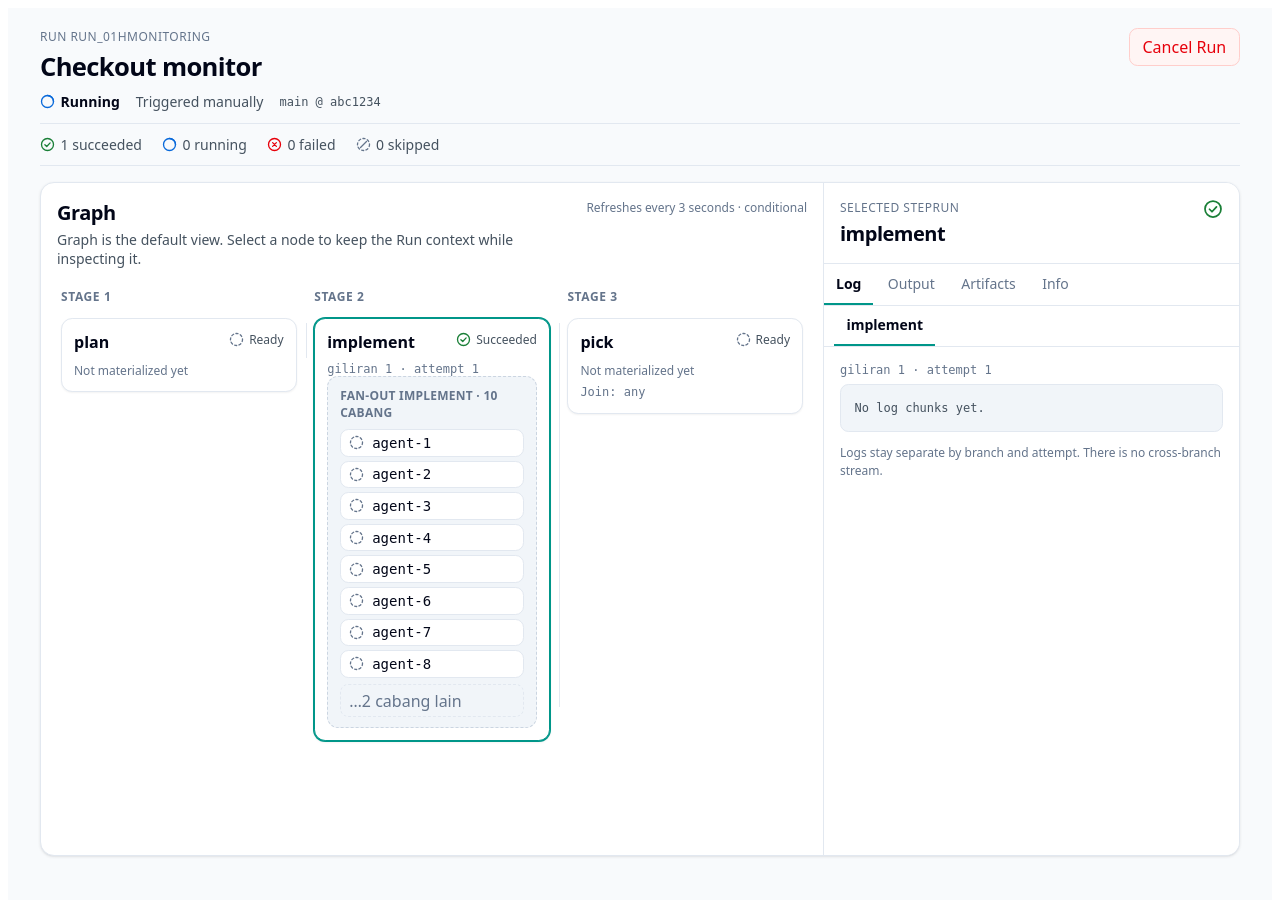
Test case: RunScreen › renders the StepRun's finalPrompt — what was actually sent to the agent — through the Info tab
Click the tab "Info". click: coordinates (1055, 284)
box: [1030,264,1081,305]
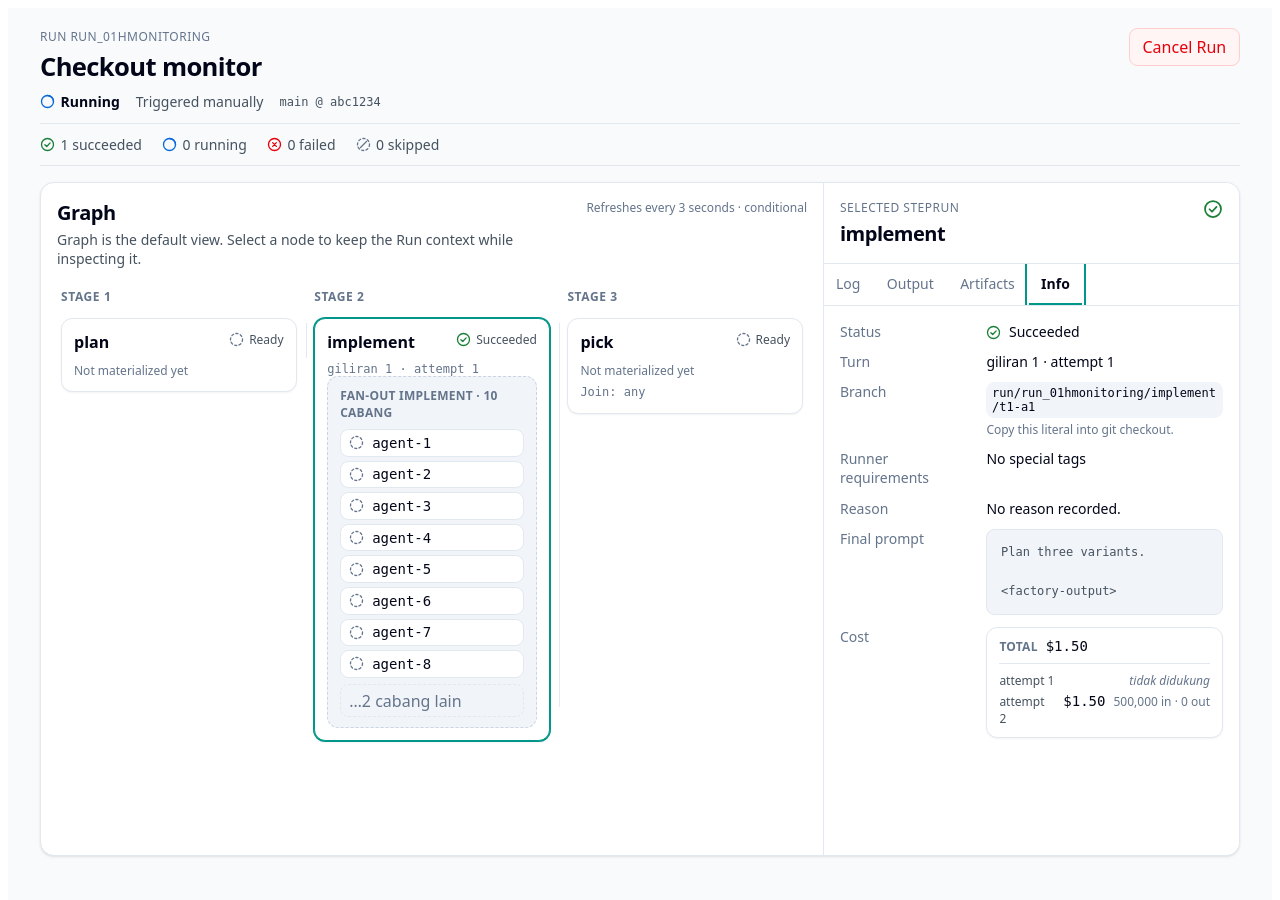
Check: the text with test id "final-prompt" shows "Plan three variants.", box [1001,545,1146,598]
Check: the text with test id "final-prompt" shows "<factory-output>", box [1001,545,1146,598]
